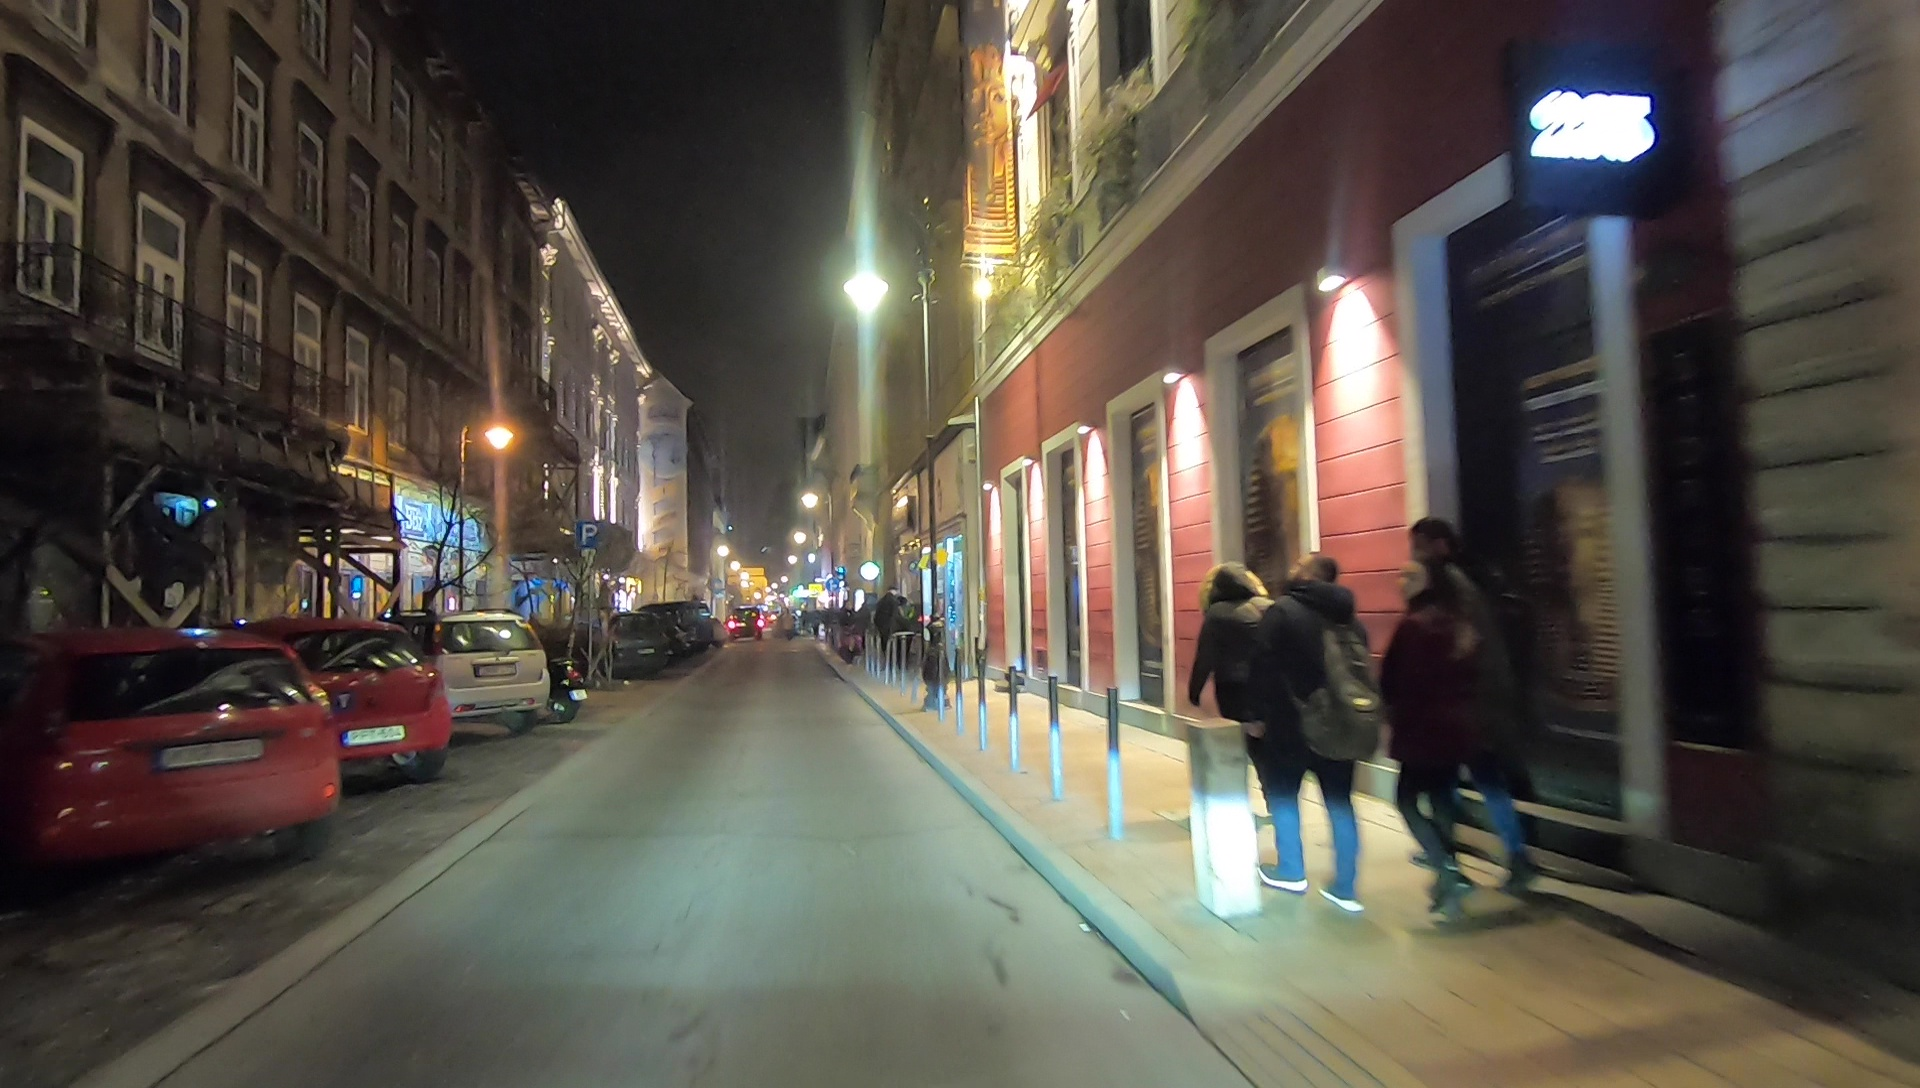person: (1415, 510, 1545, 880), (1267, 547, 1380, 906), (1193, 552, 1306, 874), (1393, 563, 1475, 915), (878, 587, 904, 679)
